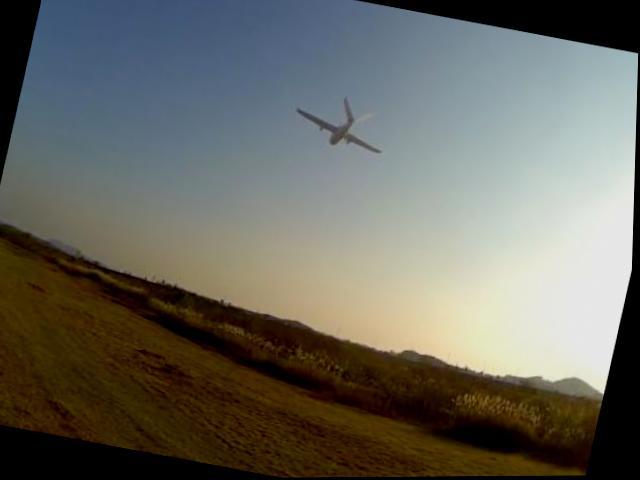uav: (279, 80, 400, 175)
